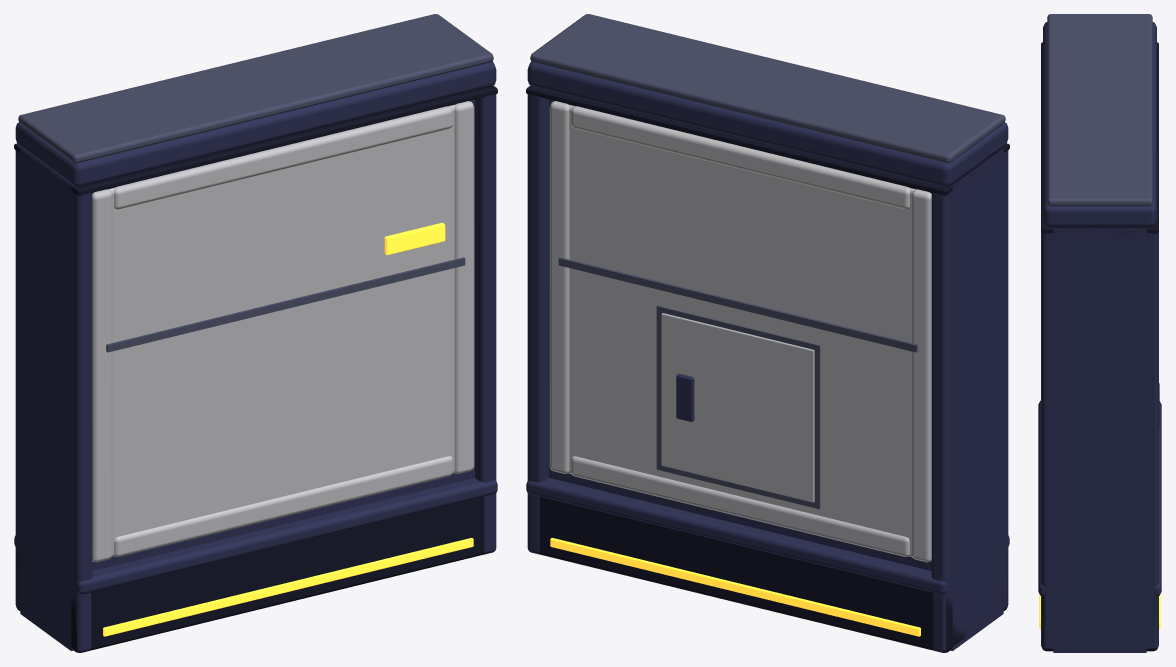
File: int.halfwall.l1.glb
The picture shows the model from 3 angles, left to right: view 1: azimuth 30°, elevation 25°; view 2: azimuth 150°, elevation 25°; view 3: azimuth 270°, elevation 25°; orthographic projection. The views are drawn at different scales.
Visible parts, largest first — view 1: int.halfwall.l1; view 2: int.halfwall.l1; view 3: int.halfwall.l1.
Boxes of the visible parts, box(x1,y1,x2,y2) form: int.halfwall.l1: box(14, 14, 497, 652); int.halfwall.l1: box(526, 14, 1009, 652); int.halfwall.l1: box(1038, 14, 1161, 652).
Bounding box in the file's own units: 1.01 × 1.13 × 0.278.
